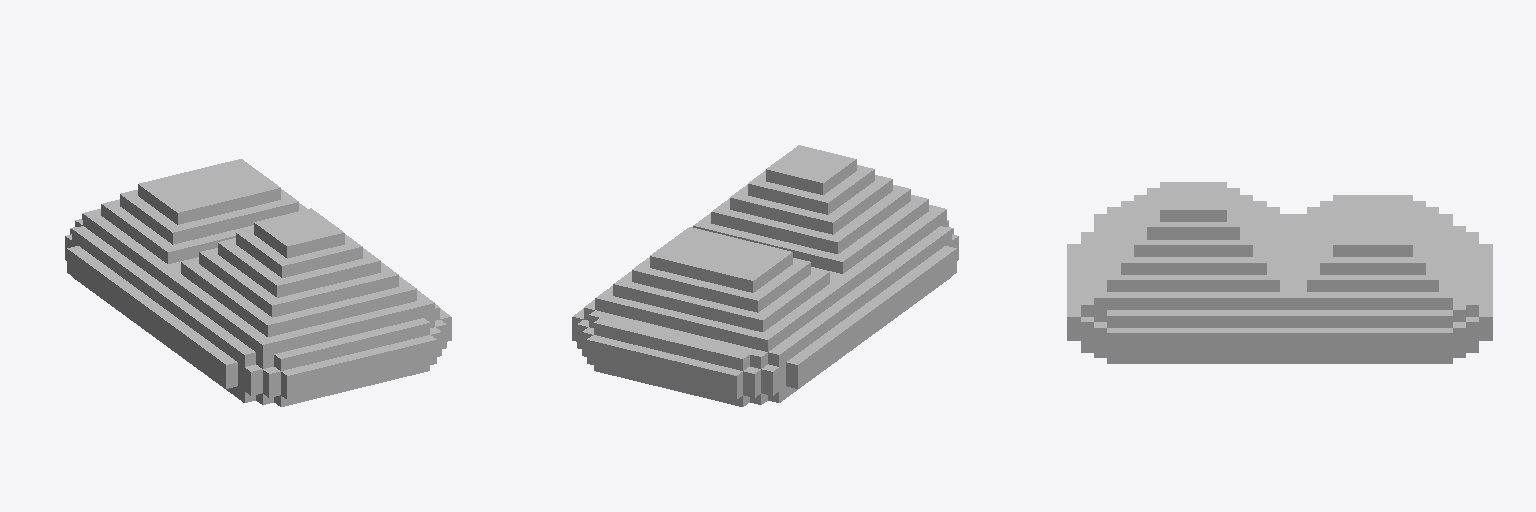
Rendered from nuvem 3d.obj.
3 views of the same model, side by side, from view 1: azimuth 30°, elevation 25°; view 2: azimuth 150°, elevation 25°; view 3: azimuth 270°, elevation 25° (orthographic).
Parts seen in each view (by area): view 1: object 1; view 2: object 1; view 3: object 1.
Boxes of the visible parts, box(x1,y1,x2,y2) form: object 1: box(65, 159, 451, 406); object 1: box(572, 145, 958, 406); object 1: box(1067, 182, 1492, 363).
Bounding box in the file's own units: 1.9 × 1 × 3.2.